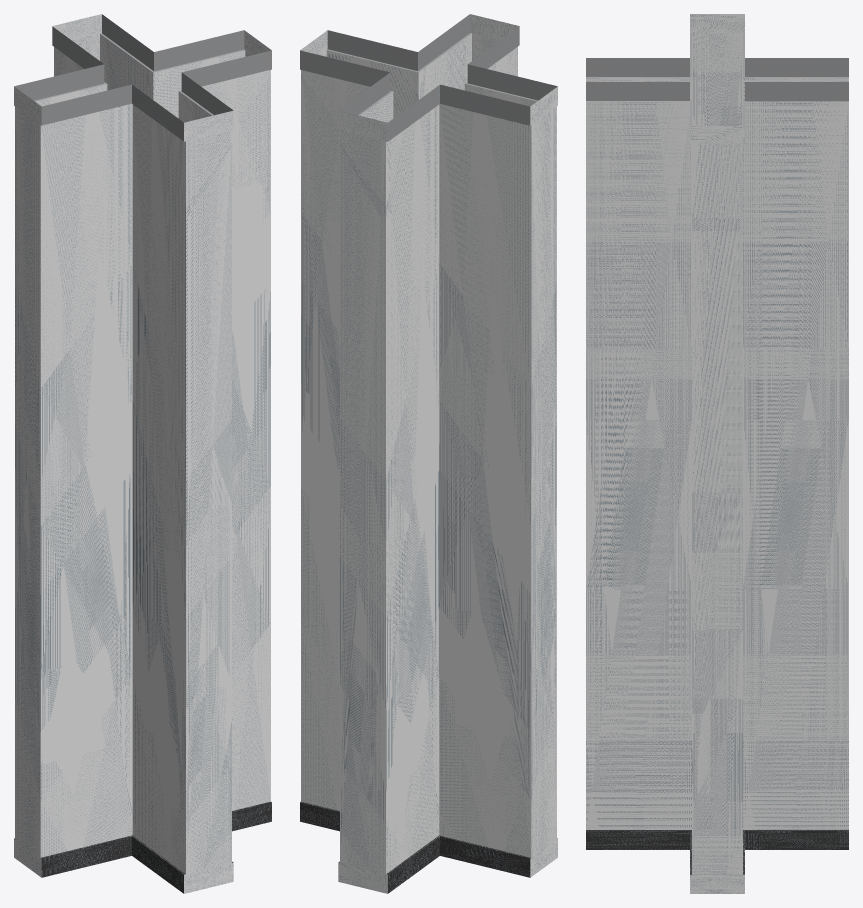
The model's file is Corner_ds_cross_plinth_050x050x025x4.dae.
3 renders of one model, left to right at view 1: azimuth 30°, elevation 25°; view 2: azimuth 150°, elevation 25°; view 3: azimuth 270°, elevation 25°, orthographic.
Parts seen in each view (by area): view 1: group_0 (×7); view 2: group_0 (×7); view 3: group_0 (×7).
Boxes of the visible parts, bbox=[...] form: group_0 (×7): bbox=[14, 14, 271, 893]; group_0 (×7): bbox=[300, 14, 557, 893]; group_0 (×7): bbox=[586, 14, 848, 893].
Bounding box in the file's own units: 49.21 × 48.82 × 157.
